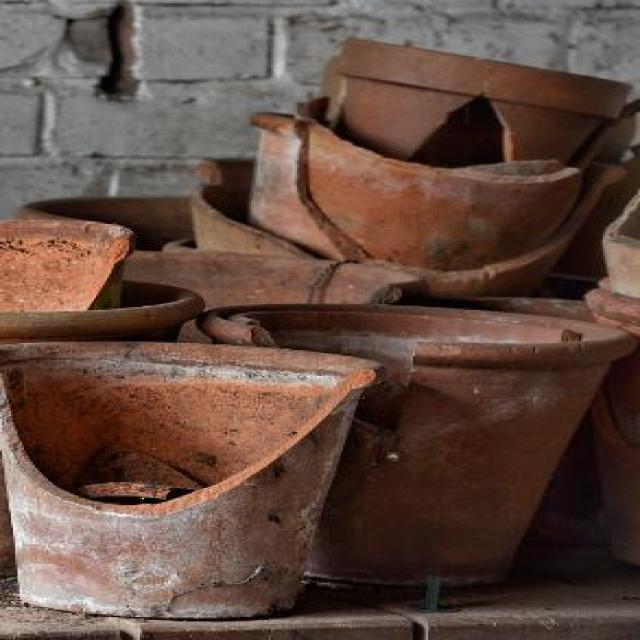-Other waste - ceramic-: (2, 348, 368, 624)
